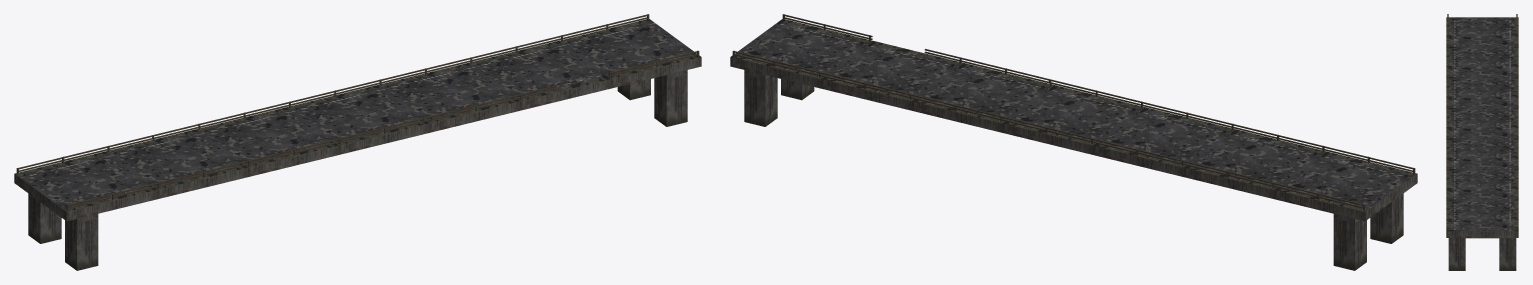
File: Overpass_Cross.fbx
3 views of the same model, side by side, from view 1: azimuth 30°, elevation 25°; view 2: azimuth 150°, elevation 25°; view 3: azimuth 270°, elevation 25° (orthographic). The views are drawn at different scales.
Parts seen in each view (by area): view 1: Overpass_Cross; view 2: Overpass_Cross; view 3: Overpass_Cross.
Part boxes in pixels (x1,y1,x2,y2): Overpass_Cross: [14, 14, 701, 270]; Overpass_Cross: [730, 14, 1417, 270]; Overpass_Cross: [1446, 14, 1518, 270].
Bounding box in the file's own units: 4200 × 436 × 600.
1 material, 1 textured.
